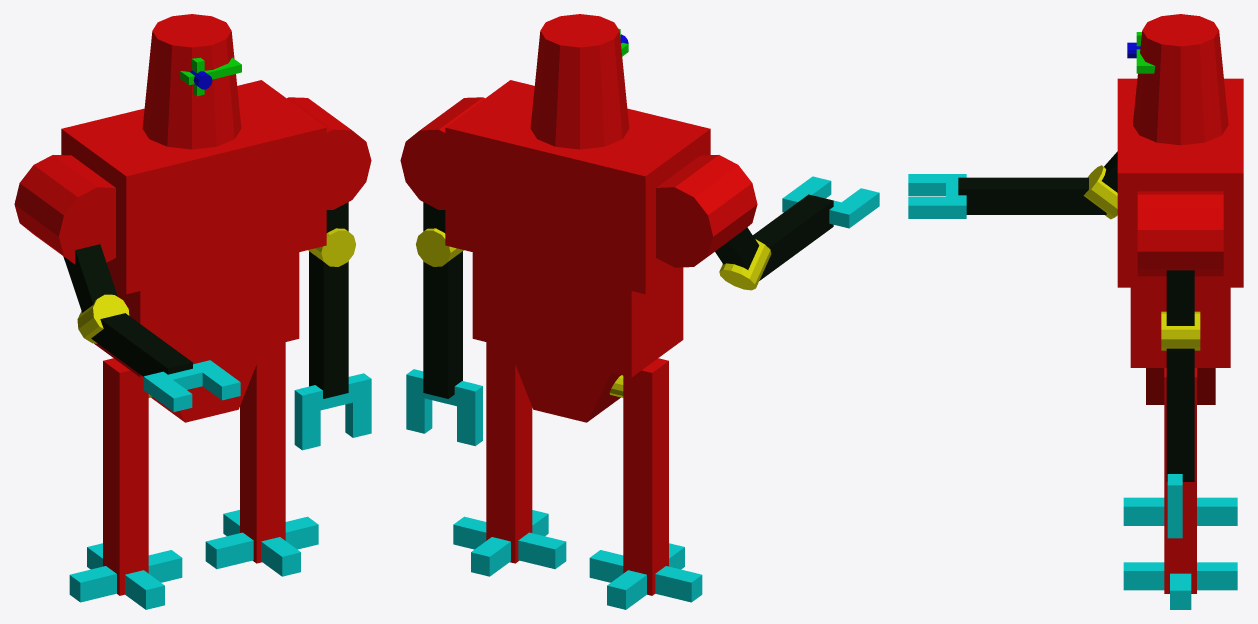
File: Ranged_Enemy.fbx
3 views of the same model, side by side, from view 1: azimuth 30°, elevation 25°; view 2: azimuth 150°, elevation 25°; view 3: azimuth 270°, elevation 25° (orthographic). The views are drawn at different scales.
Visible parts, largest first — view 1: Sniper_Enemy_Merged; view 2: Sniper_Enemy_Merged; view 3: Sniper_Enemy_Merged.
Part boxes in pixels (bbox=[...]): Sniper_Enemy_Merged: bbox=[14, 14, 371, 609]; Sniper_Enemy_Merged: bbox=[400, 14, 879, 609]; Sniper_Enemy_Merged: bbox=[908, 14, 1243, 609].
Size of the model in its own units: 2.94 by 4.58 by 2.66.
